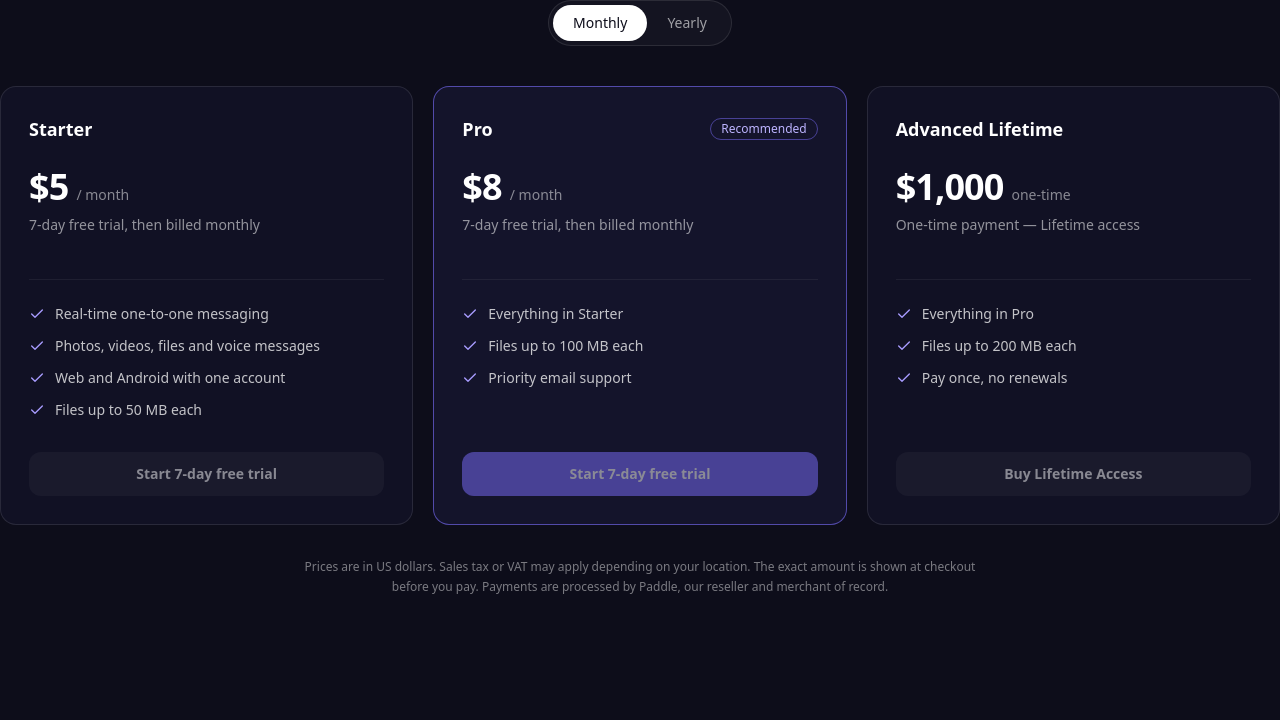
Scenario: pricing table › Starter (Yearly) opens the overlay checkout for its own price ID
Later steps or results of the test are not shown.
Click the radio button labelled "Yearly" at (687, 23), box [647,5,727,41]
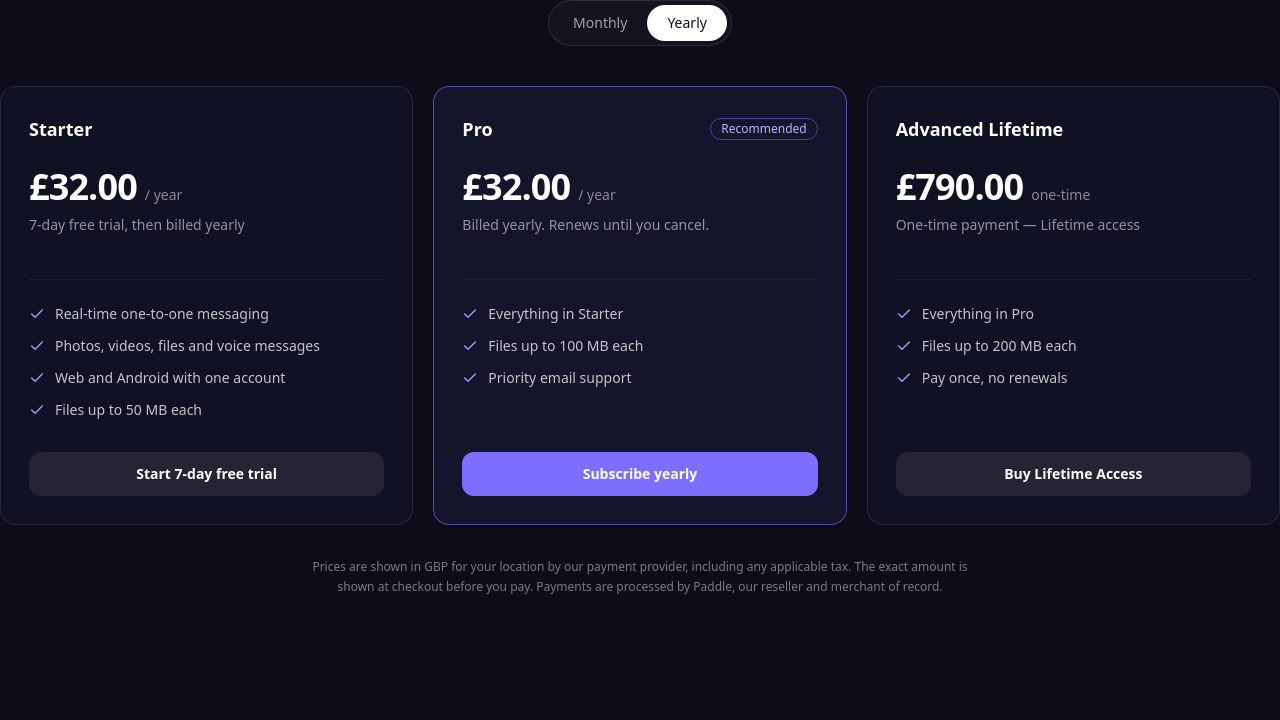
Expected: the button "Start 7-day free trial" is enabled, [29,452,384,496]
